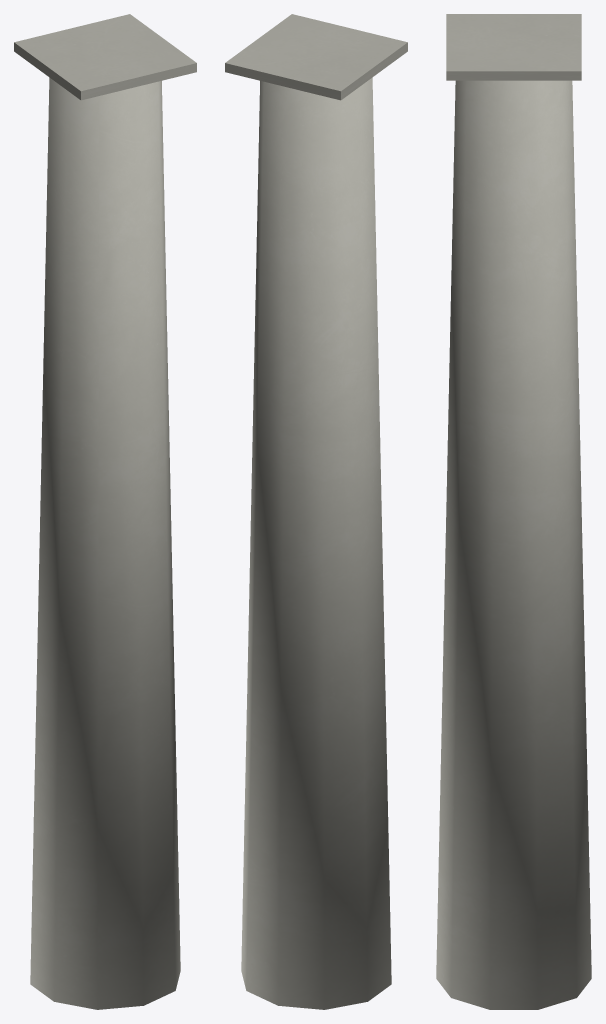
The model's file is ColonnaForo_DOWN.fbx.
The picture shows the model from 3 angles, left to right: view 1: azimuth 30°, elevation 25°; view 2: azimuth 150°, elevation 25°; view 3: azimuth 270°, elevation 25°; orthographic projection.
Visible parts, largest first — view 1: Cylinder.003; view 2: Cylinder.003; view 3: Cylinder.003.
Part boxes in pixels (box(x1,y1,x2,y2)): Cylinder.003: box(14, 14, 196, 1009); Cylinder.003: box(225, 14, 407, 1009); Cylinder.003: box(436, 14, 591, 1009).
Size of the model in its own units: 231 by 1615 by 243.
